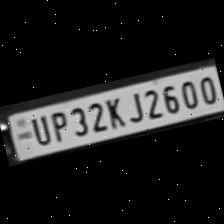0: (194, 72, 220, 106), (176, 76, 200, 110)
2: (83, 98, 108, 134), (138, 85, 162, 121)
3: (64, 102, 90, 138)
6: (157, 81, 182, 116)
J: (122, 89, 146, 125)
K: (100, 93, 128, 130)
P: (45, 107, 72, 144)
U: (25, 112, 52, 148)
